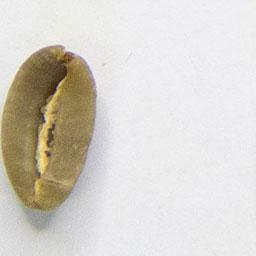longberry: (2, 40, 100, 215)
